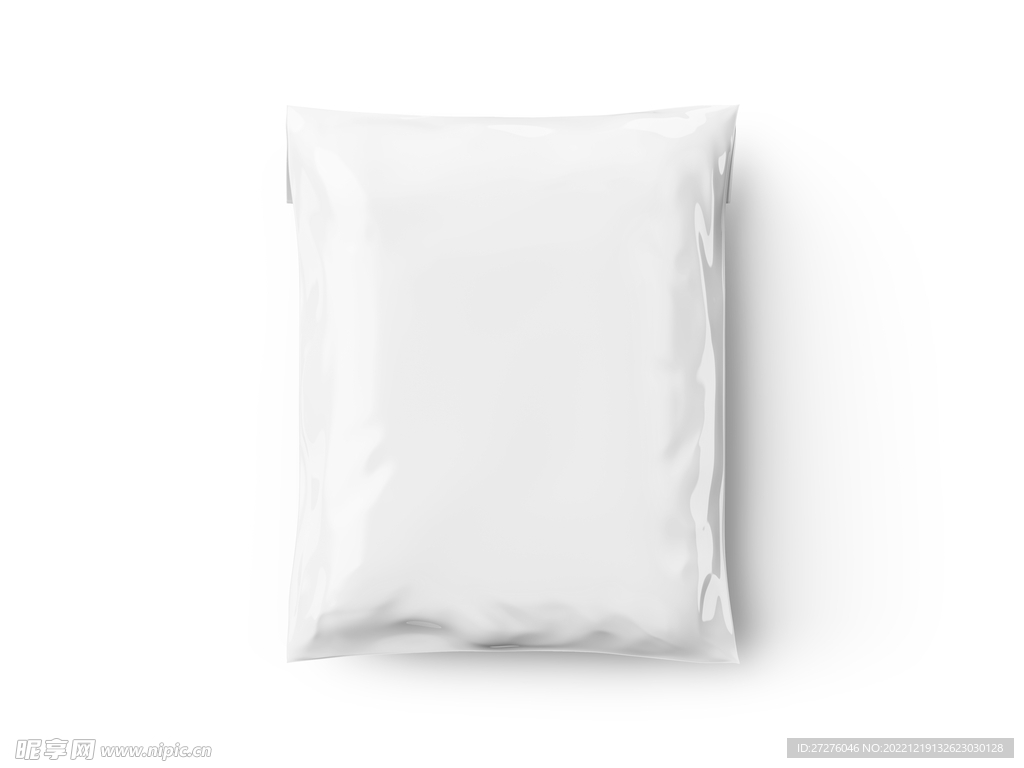Parcel: (286, 106, 737, 663)
